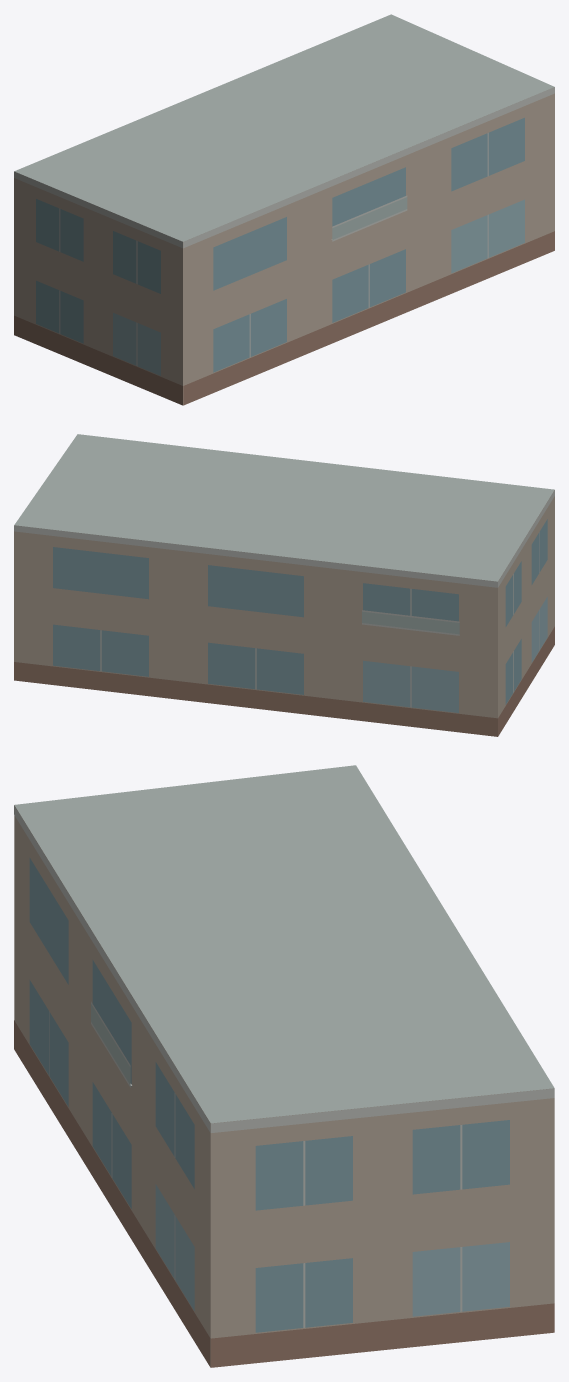
Rendered from survey-upis-32974642.glb.
3 views of the same model, one above another, from view 1: azimuth 30°, elevation 25°; view 2: azimuth 150°, elevation 25°; view 3: azimuth 270°, elevation 25° (orthographic). The views are drawn at different scales.
Parts seen in each view (by area): view 1: survey-upis-32974642.tmp; view 2: survey-upis-32974642.tmp; view 3: survey-upis-32974642.tmp.
Boxes of the visible parts, <box> form: survey-upis-32974642.tmp: <box>14,14,554,405</box>; survey-upis-32974642.tmp: <box>14,434,554,736</box>; survey-upis-32974642.tmp: <box>14,765,554,1367</box>.
Bounding box in the file's own units: 19.2 × 6.1 × 12.24.
